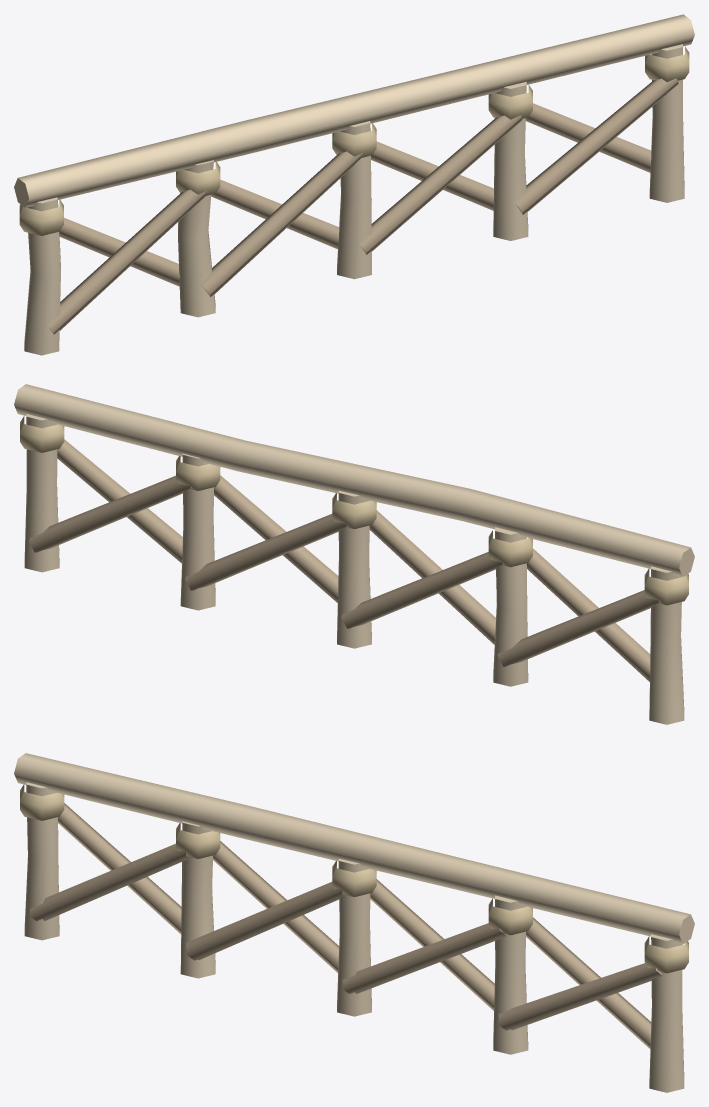
Rendered from building.railing.glb.
3 views of the same model, one above another, from view 1: azimuth 30°, elevation 25°; view 2: azimuth 150°, elevation 25°; view 3: azimuth 330°, elevation 25° (orthographic).
Visible parts, largest first — view 1: Paint, PaintDark, Rope; view 2: Paint, PaintDark, Rope; view 3: Paint, PaintDark, Rope.
Part boxes in pixels (x1,y1,x2,y2): Paint: (14, 14, 694, 355); PaintDark: (47, 78, 678, 334); Rope: (19, 46, 689, 235); Paint: (14, 384, 694, 724); PaintDark: (29, 439, 659, 681); Rope: (20, 416, 688, 605); Paint: (14, 753, 694, 1092); PaintDark: (30, 803, 662, 1048); Rope: (20, 785, 688, 973).
Bounding box in the file's own units: 1.99 × 0.4952 × 0.1162.
